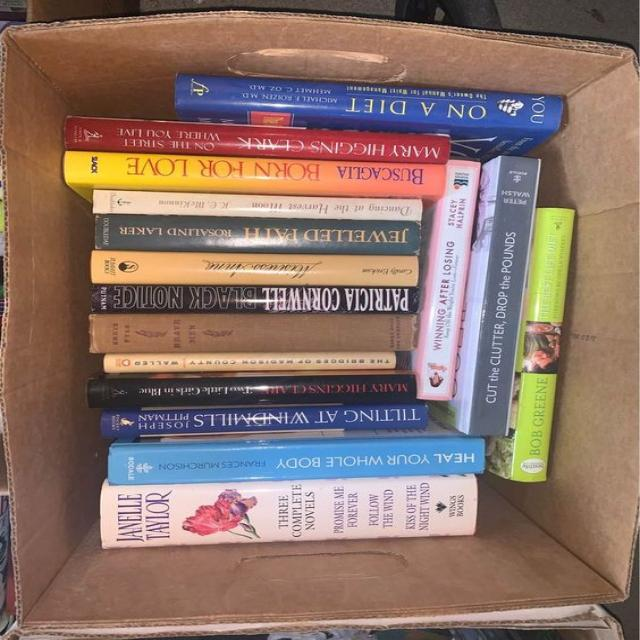book: (101, 476, 476, 550), (176, 74, 563, 129), (470, 156, 540, 436), (107, 437, 484, 486), (66, 116, 450, 164), (511, 207, 577, 481), (63, 151, 446, 198), (417, 160, 481, 399), (94, 215, 421, 255), (90, 315, 415, 353), (92, 251, 418, 287), (100, 404, 427, 439), (88, 375, 415, 408), (92, 190, 421, 222), (92, 285, 418, 314), (104, 355, 396, 373)
